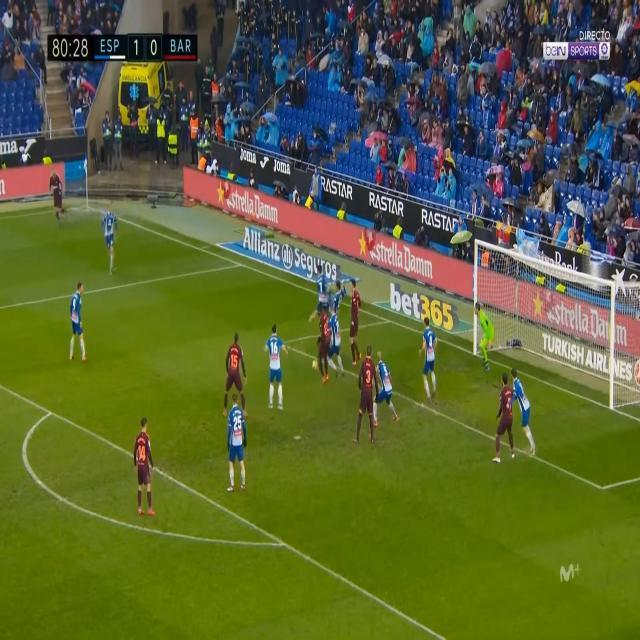goalkeeper: (471, 300, 497, 372)
player: (127, 412, 162, 521), (221, 392, 254, 497), (261, 322, 293, 411), (491, 371, 517, 467), (65, 277, 92, 367), (355, 351, 380, 447), (222, 332, 250, 410), (418, 317, 442, 404), (513, 375, 535, 463), (98, 200, 122, 273), (376, 353, 400, 426), (312, 309, 335, 385), (344, 275, 363, 360), (49, 166, 68, 228)
